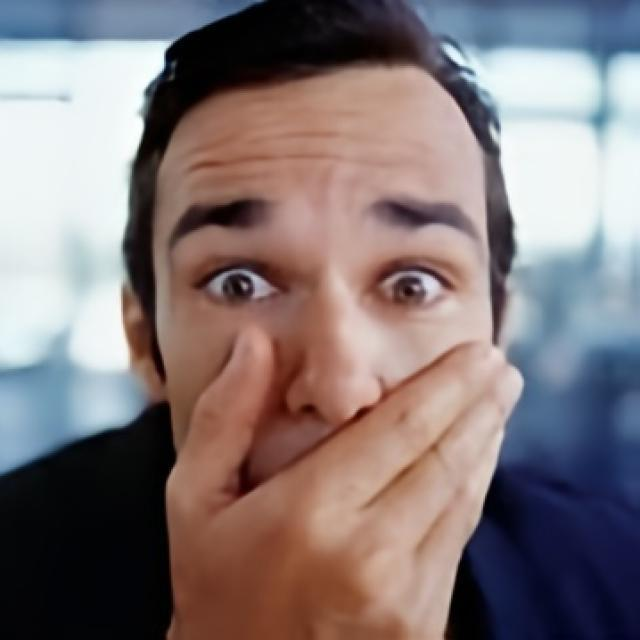fear: (156, 61, 496, 560)
